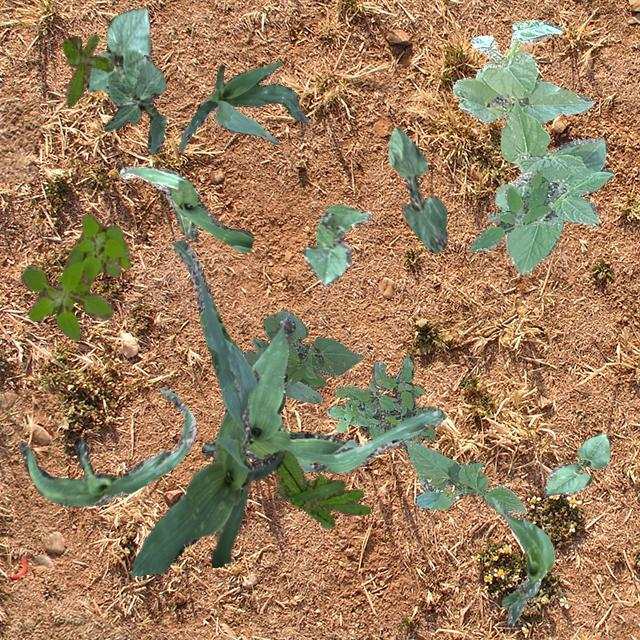crop: (130, 238, 284, 576), (452, 18, 612, 274), (200, 316, 442, 472), (18, 386, 196, 506), (178, 60, 308, 152), (119, 164, 252, 250), (242, 310, 362, 402), (402, 439, 526, 514), (488, 496, 552, 626), (388, 125, 446, 252), (104, 54, 164, 154), (302, 204, 371, 286), (84, 7, 150, 92), (542, 432, 610, 494)
weed: (20, 212, 130, 340), (326, 354, 446, 442), (263, 448, 369, 528), (469, 170, 548, 252), (61, 34, 112, 104)
